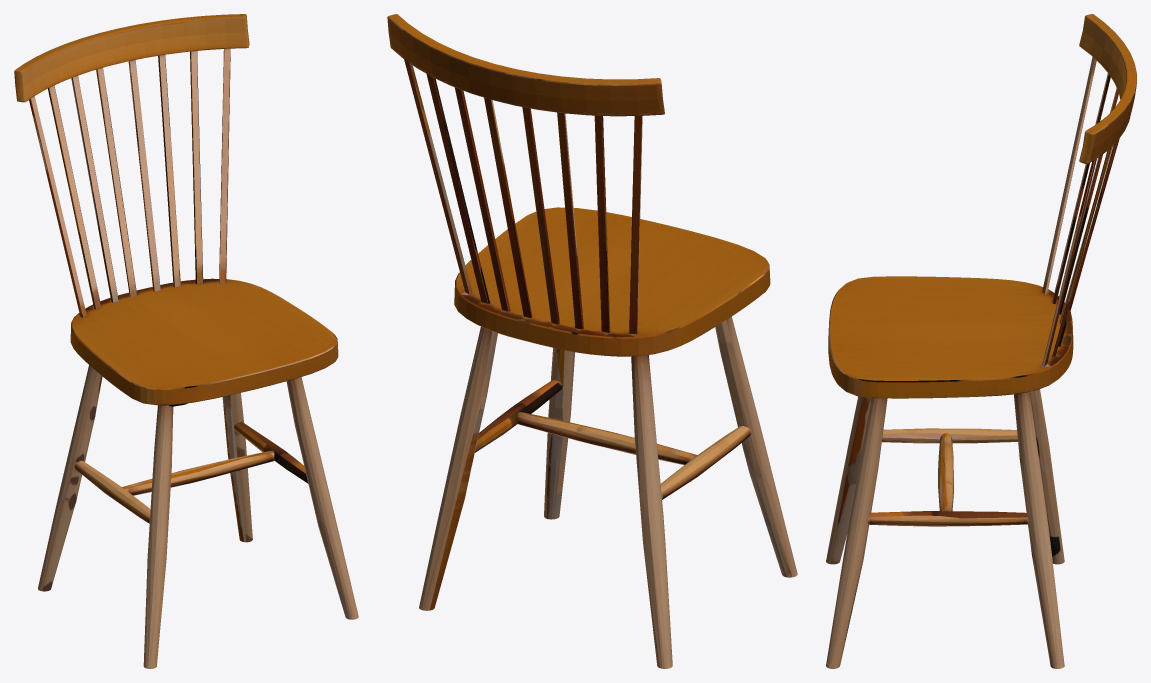
The model's file is edited_mesh.glb.
3 renders of one model, left to right at view 1: azimuth 30°, elevation 25°; view 2: azimuth 150°, elevation 25°; view 3: azimuth 270°, elevation 25°, orthographic. The views are drawn at different scales.
Visible parts, largest first — view 1: normalized_model.obj; view 2: normalized_model.obj; view 3: normalized_model.obj.
Boxes of the visible parts, bbox=[...] form: normalized_model.obj: bbox=[14, 14, 358, 668]; normalized_model.obj: bbox=[387, 14, 797, 668]; normalized_model.obj: bbox=[826, 14, 1136, 668].
Bounding box in the file's own units: 0.7566 × 1.59 × 0.8261.
Materials: 1 (1 with a texture image).
